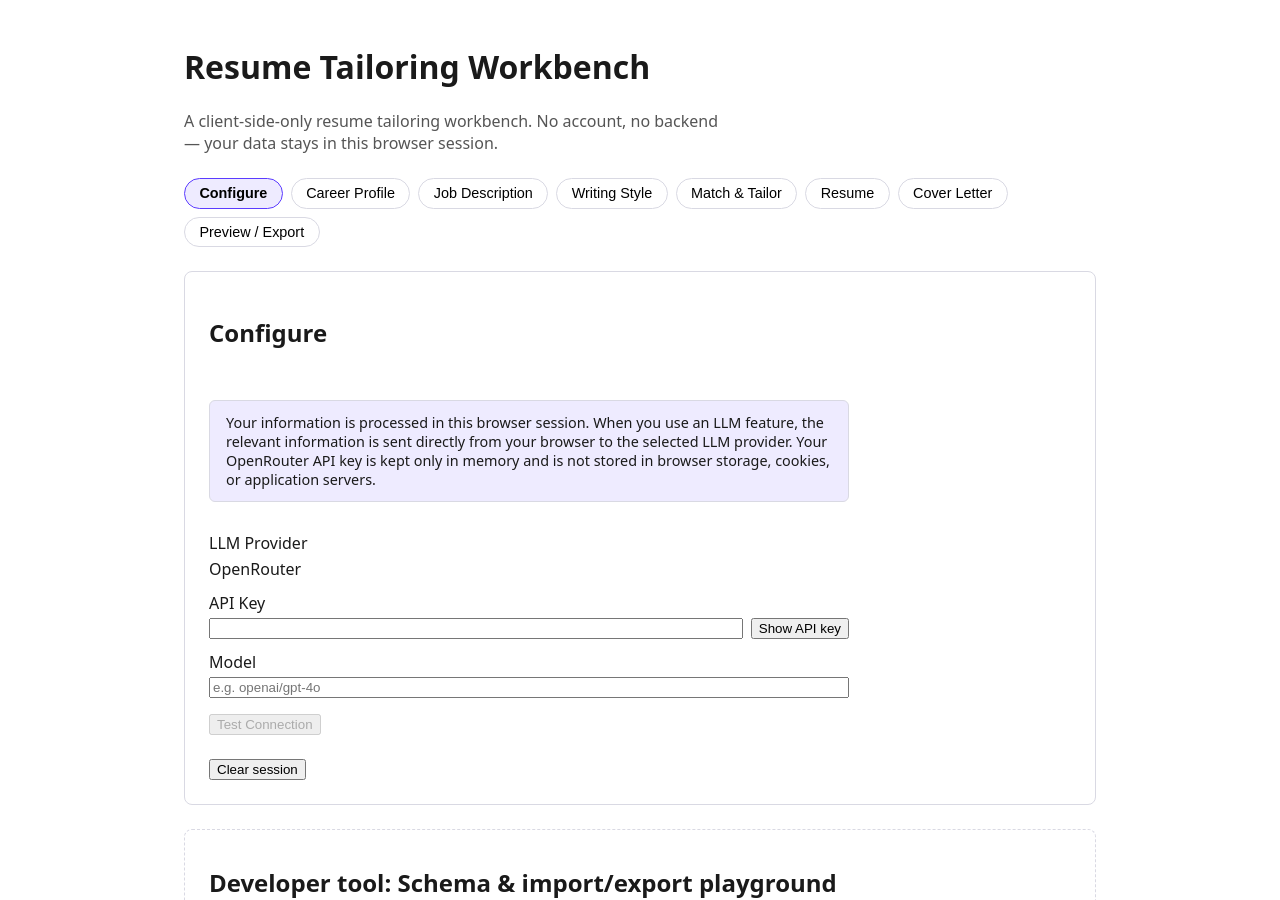
Test: Error handling and recovery (Stage 15) › Career Profile: explains what is needed when there is no input yet, and keeps Generate disabled
Click the button "Career Profile". click: click(350, 193)
box: [291,178,410,209]
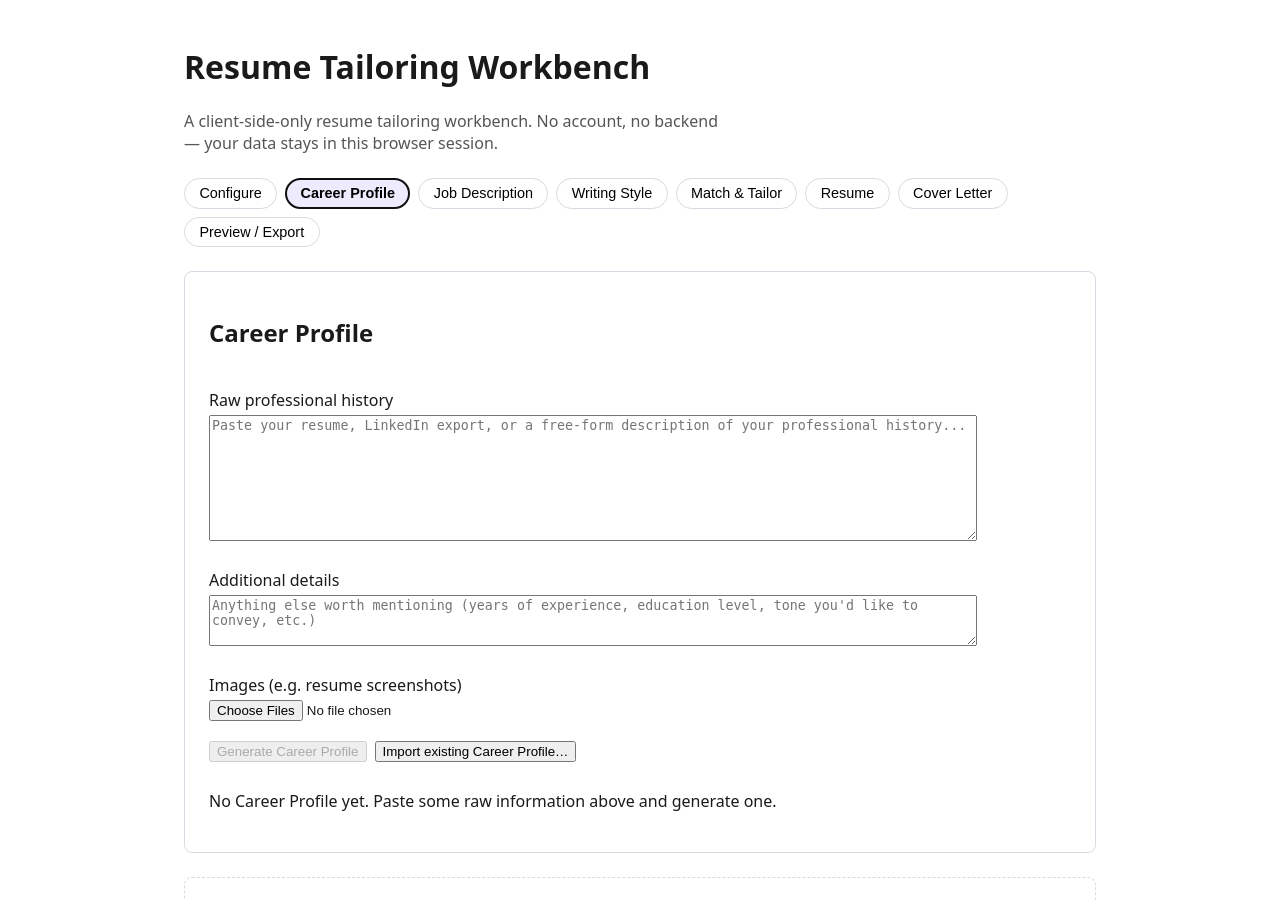
Expected: the button "Generate Career Profile" is disabled, [209,741,366,762]
Expected: the text "Paste some raw information above and generate one" is shown, [209,790,777,812]
